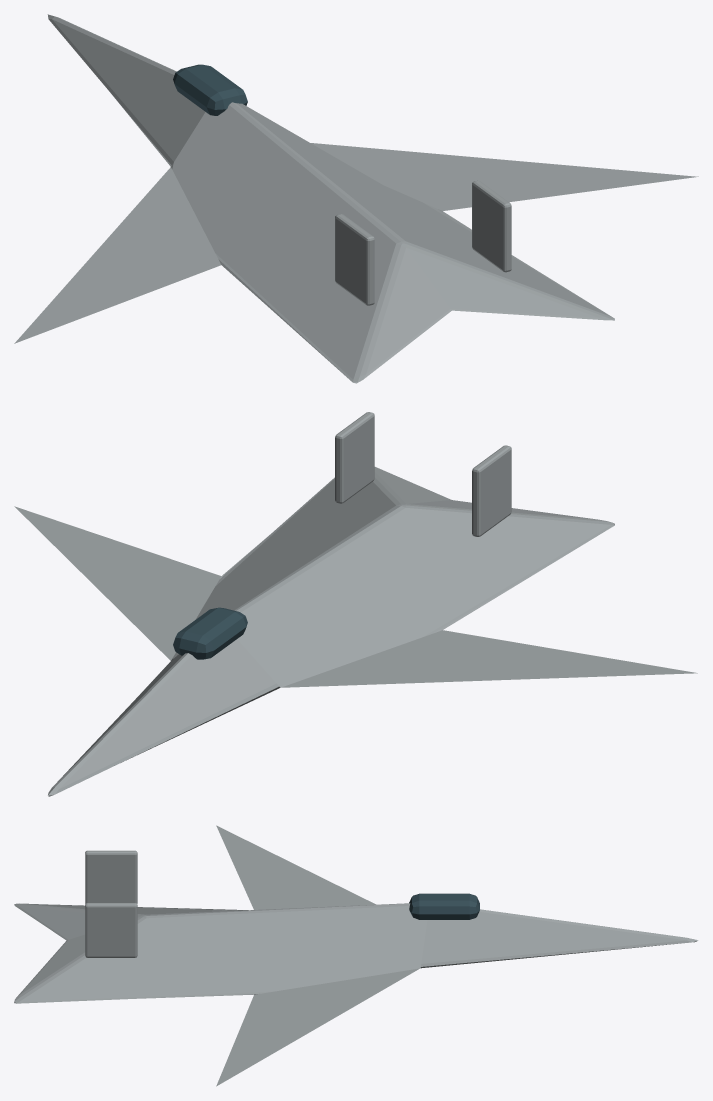
File: china_j20.glb
The picture shows the model from 3 angles, top to bottom: view 1: azimuth 30°, elevation 25°; view 2: azimuth 150°, elevation 25°; view 3: azimuth 270°, elevation 25°; orthographic projection. The views are drawn at different scales.
Parts seen in each view (by area): view 1: airframe, left_tail, right_tail, canopy; view 2: airframe, left_tail, right_tail, canopy; view 3: airframe, right_tail, left_tail, canopy.
Boxes of the visible parts, <box> form: airframe: <box>14,14,698,383</box>; left_tail: <box>335,214,374,305</box>; right_tail: <box>472,180,511,272</box>; canopy: <box>173,64,247,115</box>; airframe: <box>14,467,697,796</box>; left_tail: <box>472,445,511,536</box>; right_tail: <box>335,412,374,503</box>; canopy: <box>173,607,247,659</box>; airframe: <box>14,825,698,1086</box>; right_tail: <box>85,903,137,957</box>; left_tail: <box>85,850,137,903</box>; canopy: <box>409,893,479,919</box>.
Bounding box in the file's own units: 8.32 × 1.16 × 9.21.
